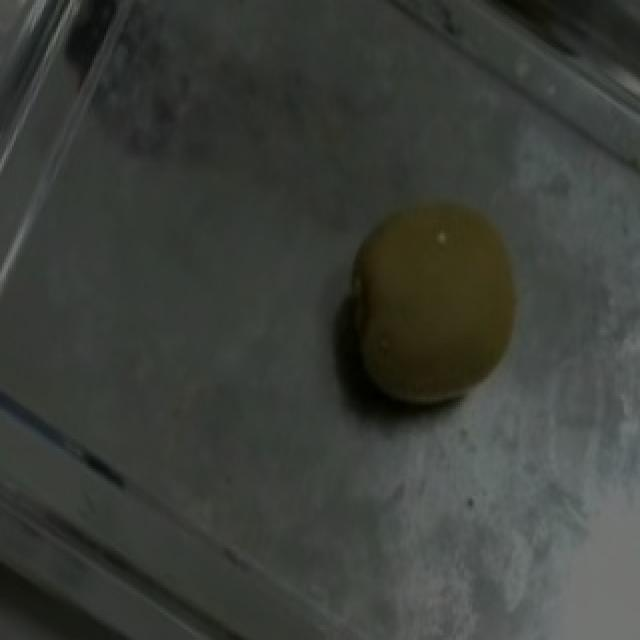Fruit: (296, 169, 560, 444)
